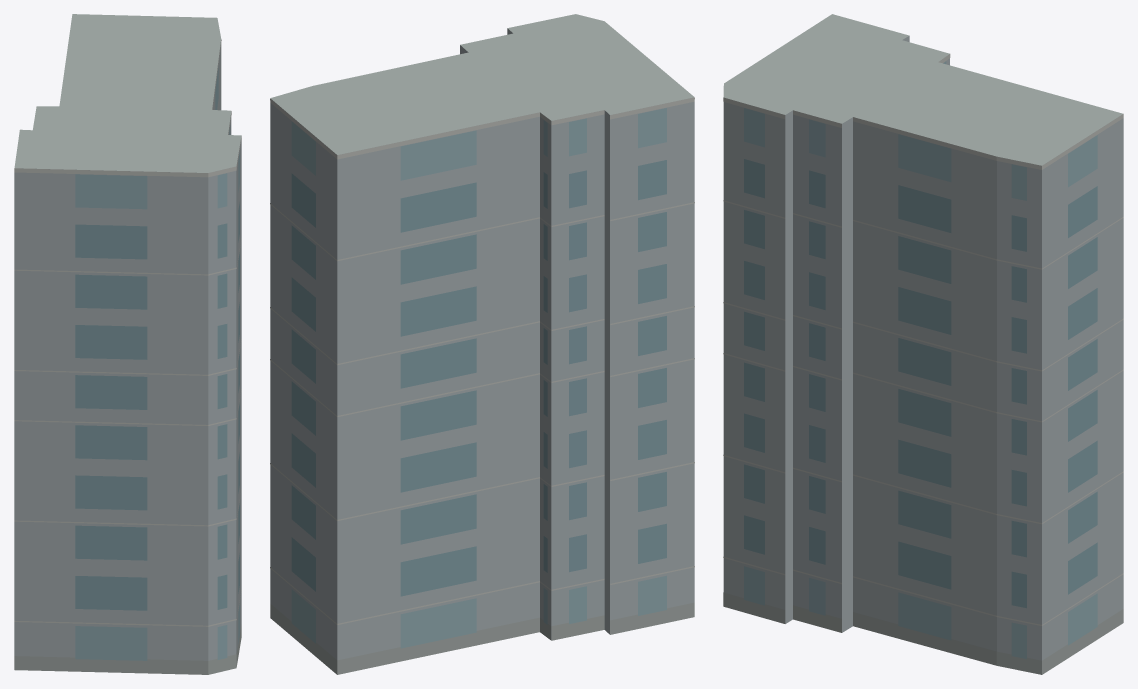
The model's file is survey-upis-32485571.glb.
3 renders of one model, left to right at view 1: azimuth 30°, elevation 25°; view 2: azimuth 150°, elevation 25°; view 3: azimuth 270°, elevation 25°, orthographic. The views are drawn at different scales.
Visible parts, largest first — view 1: survey-upis-32485571.tmp; view 2: survey-upis-32485571.tmp; view 3: survey-upis-32485571.tmp.
Part boxes in pixels (x1=…): survey-upis-32485571.tmp: x1=14, y1=14, x2=241, y2=674; survey-upis-32485571.tmp: x1=270, y1=14, x2=694, y2=674; survey-upis-32485571.tmp: x1=723, y1=14, x2=1123, y2=674.
Size of the model in its own units: 18.33 by 28.65 by 20.42.
